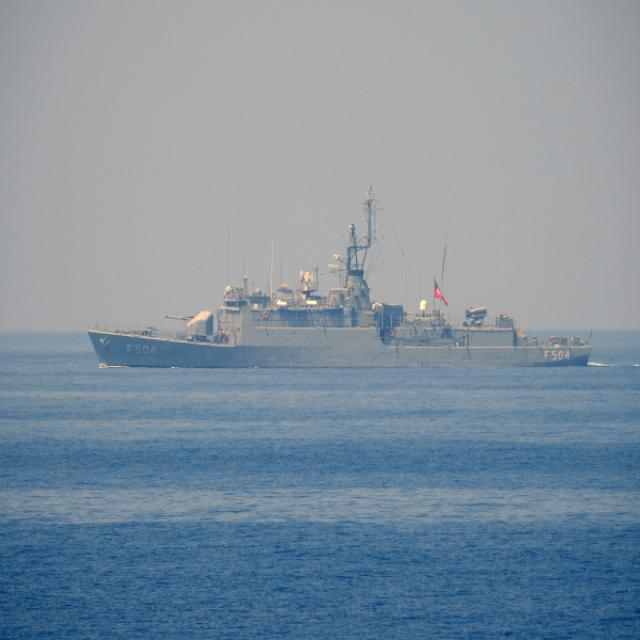Fragata: (84, 178, 597, 375)
